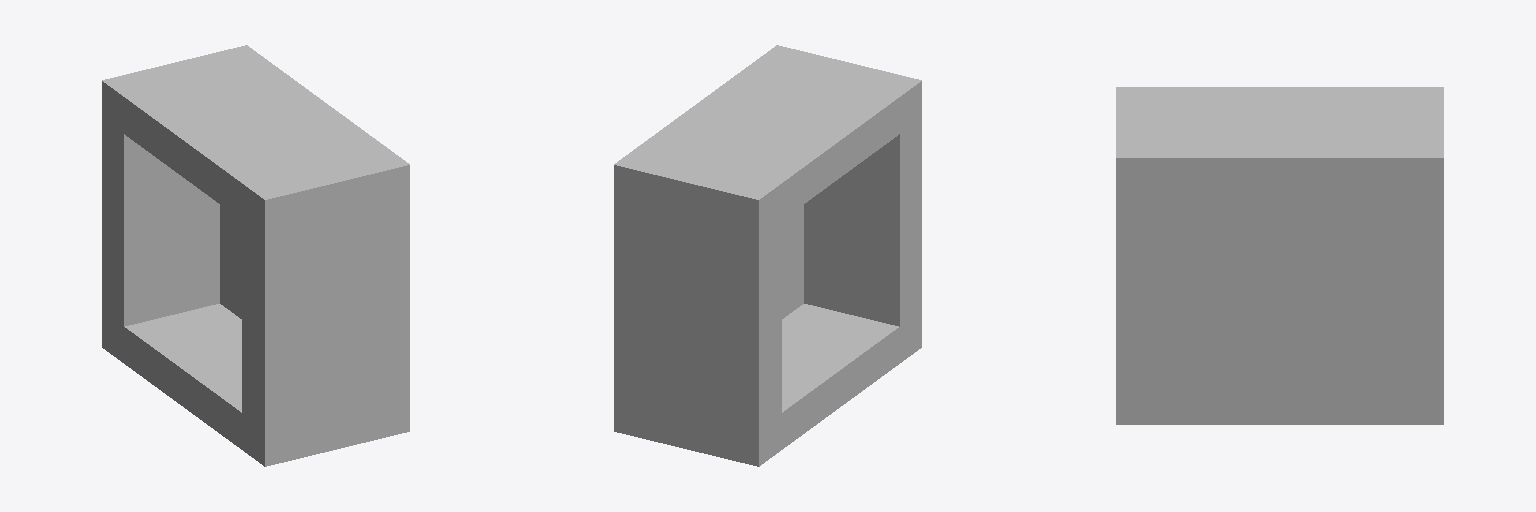
Rendered from debug_0050_death_0000.obj.
3 renders of one model, left to right at view 1: azimuth 30°, elevation 25°; view 2: azimuth 150°, elevation 25°; view 3: azimuth 270°, elevation 25°, orthographic.
Parts seen in each view (by area): view 1: Cube.005_Cube.015; view 2: Cube.005_Cube.015; view 3: Cube.005_Cube.015.
Boxes of the visible parts, box(x1,y1,x2,y2) form: Cube.005_Cube.015: box(102, 45, 409, 466); Cube.005_Cube.015: box(614, 45, 921, 466); Cube.005_Cube.015: box(1116, 87, 1443, 424).
Bounding box in the file's own units: 25.92 × 45.47 × 50.55.